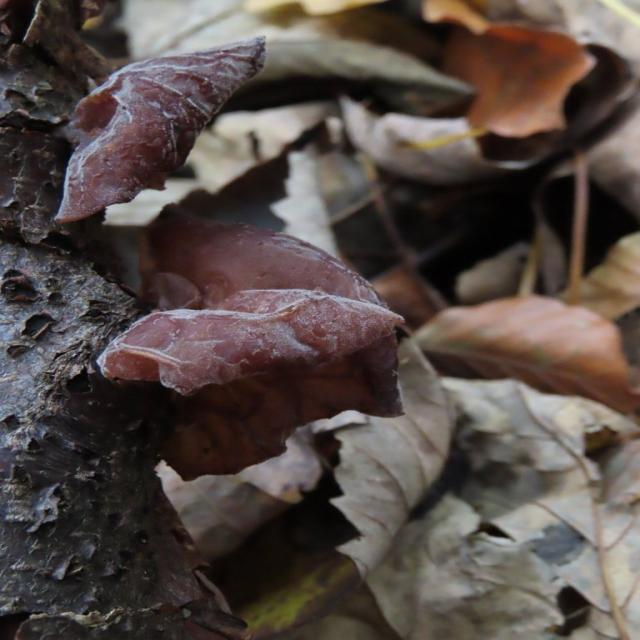Matang: (113, 214, 417, 490), (64, 22, 293, 222)
